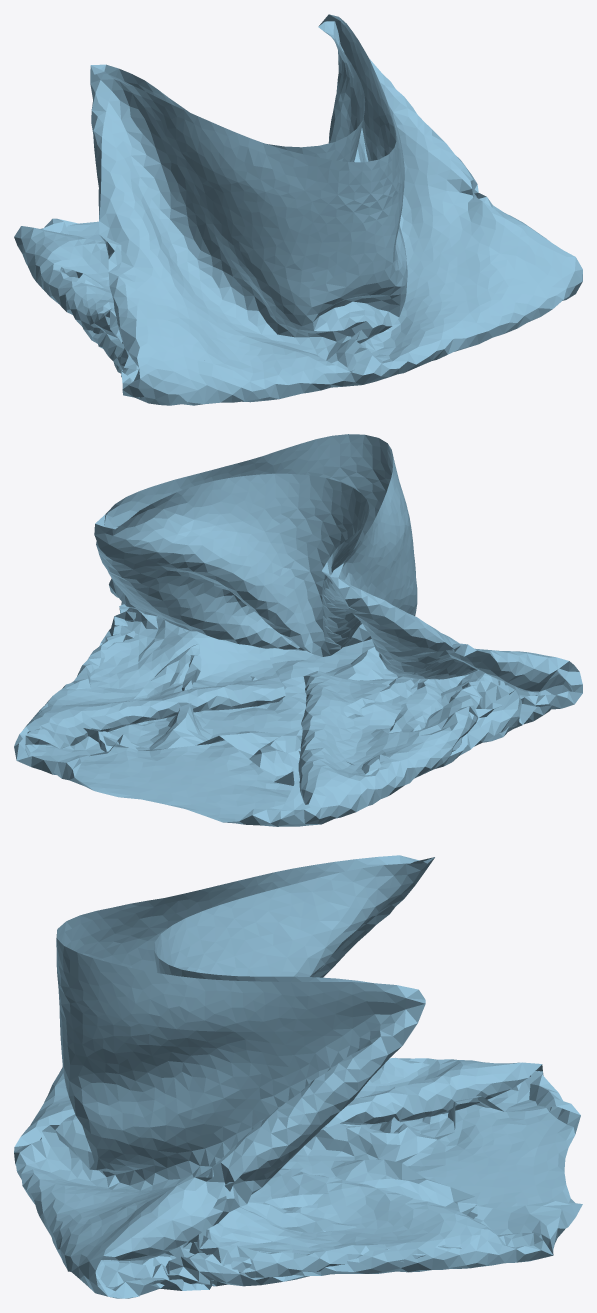
The model's file is frame_17.glb.
The picture shows the model from 3 angles, top to bottom: view 1: azimuth 30°, elevation 25°; view 2: azimuth 150°, elevation 25°; view 3: azimuth 270°, elevation 25°; orthographic projection. The views are drawn at different scales.
Visible parts, largest first — view 1: frame_17.obj; view 2: frame_17.obj; view 3: frame_17.obj.
Boxes of the visible parts, x1,y1,x2,y2 form: frame_17.obj: [14, 14, 582, 405]; frame_17.obj: [14, 434, 582, 826]; frame_17.obj: [14, 855, 582, 1298].
Size of the model in its own units: 1.11 by 0.5233 by 1.01.
